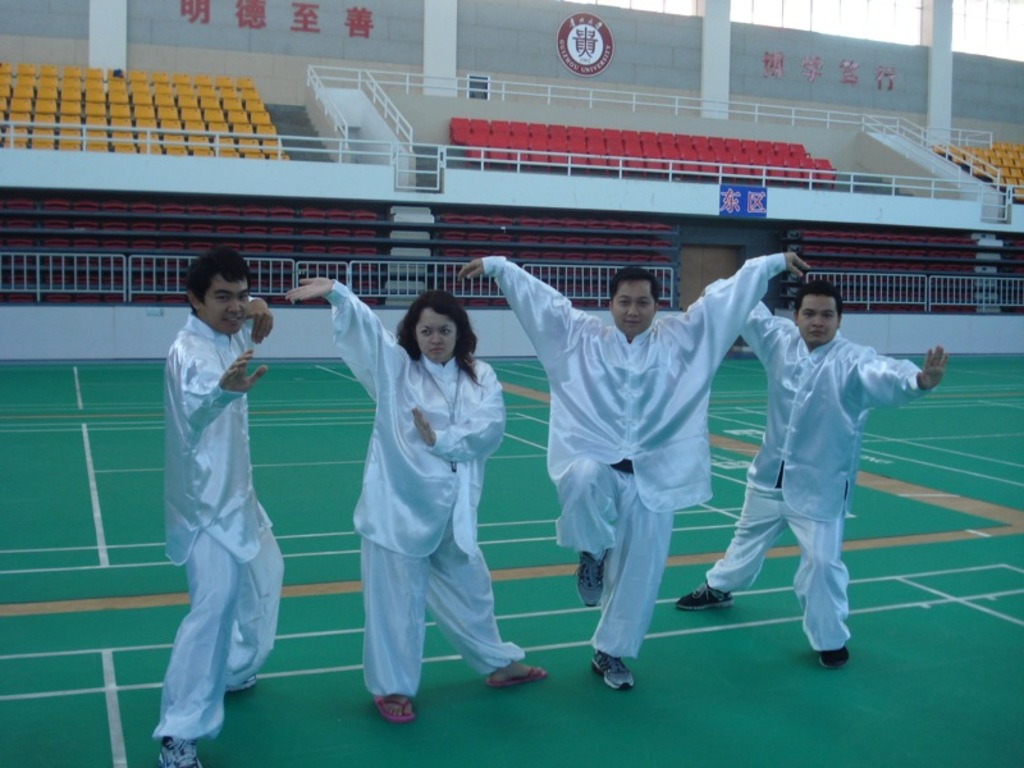Person: (284, 275, 549, 723)
